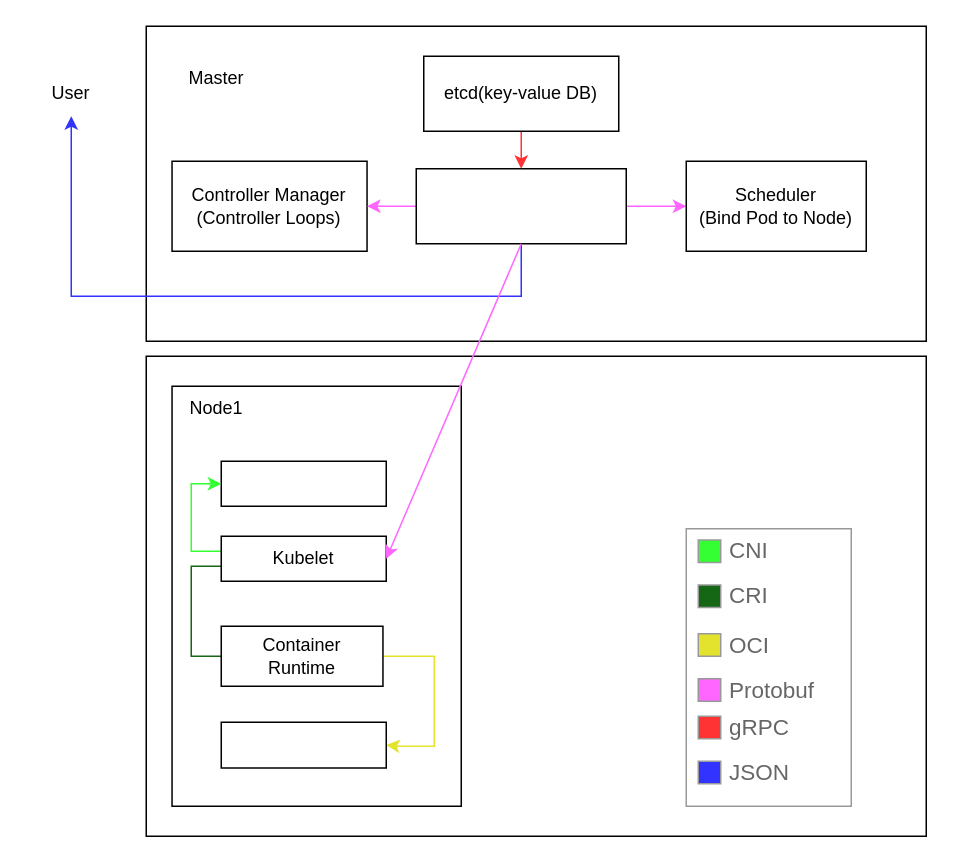
The diagram is 953 pixels wide and 863 high, and some of its shapes have lost their labels. The centre of each missing label's shape, as x and y in pixels:
"API Server(REST API)" goes at (520,205).
"Networking" goes at (303,483).
"OS" goes at (303,744).
